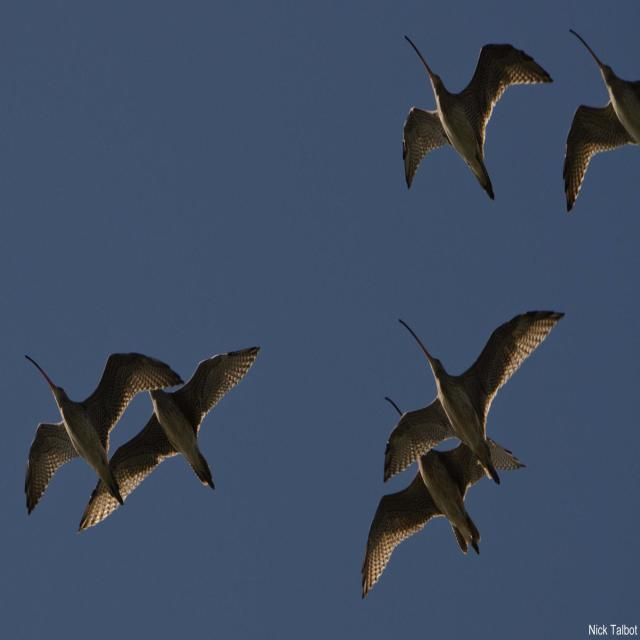bird: (344, 384, 522, 611), (76, 350, 266, 530), (381, 302, 558, 489), (389, 44, 555, 200), (24, 348, 167, 496), (559, 23, 640, 224)
